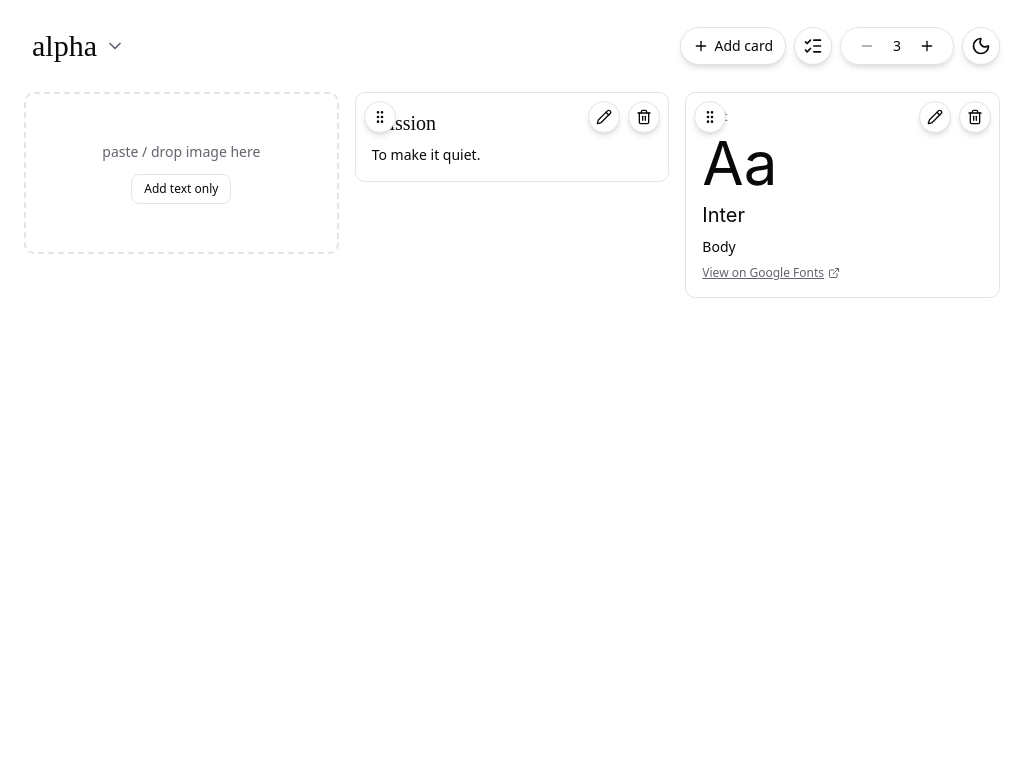
Test: editing a card › edits a text card and a font with their own fields
This screenshot has width=1024, height=768.
Expected: the button with aria-label "Brand" is shown, [24, 24, 133, 68]
Click the button named "Edit Mission": (604, 117) [588, 101, 620, 133]
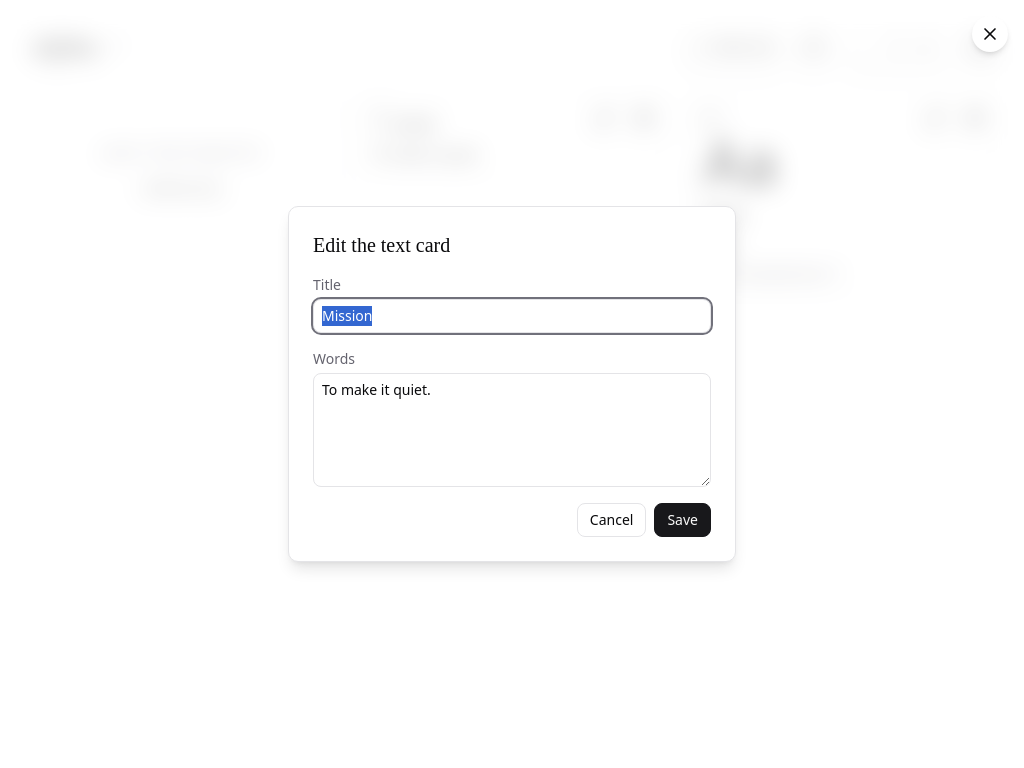
Expected: the text box labelled "Words" holds "To make it quiet."
Replace the text in the text box labelled "Words" with "Quiet.": (512, 430) [313, 373, 711, 487]
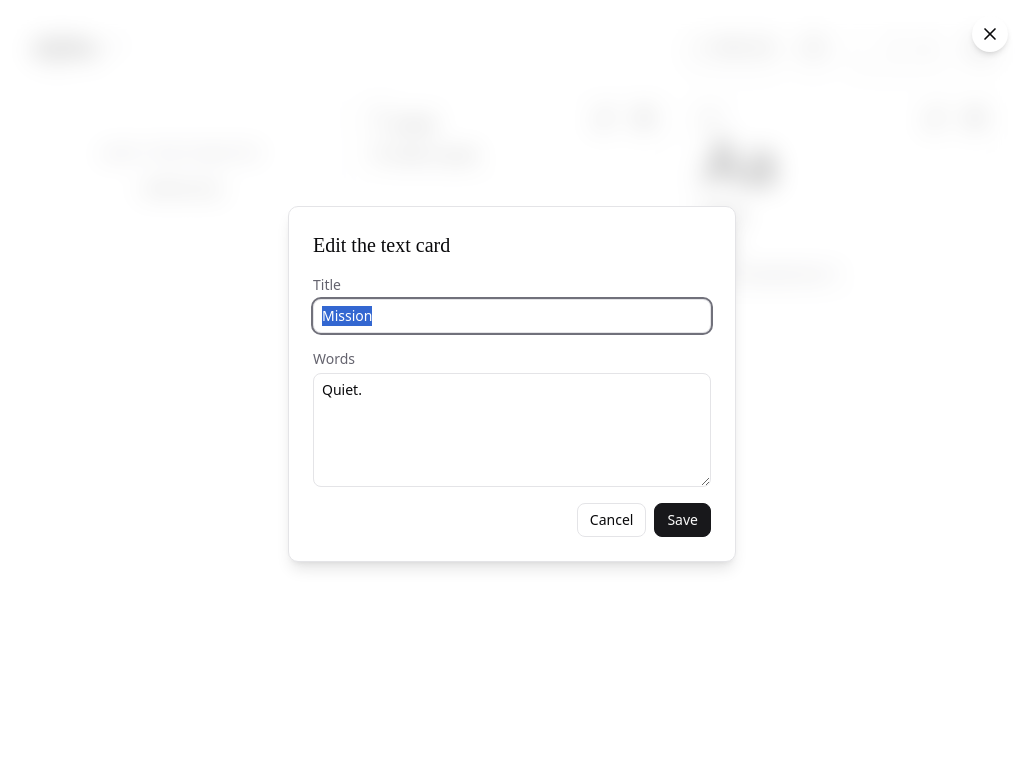
Click the button "Save": (683, 520) [654, 503, 711, 537]
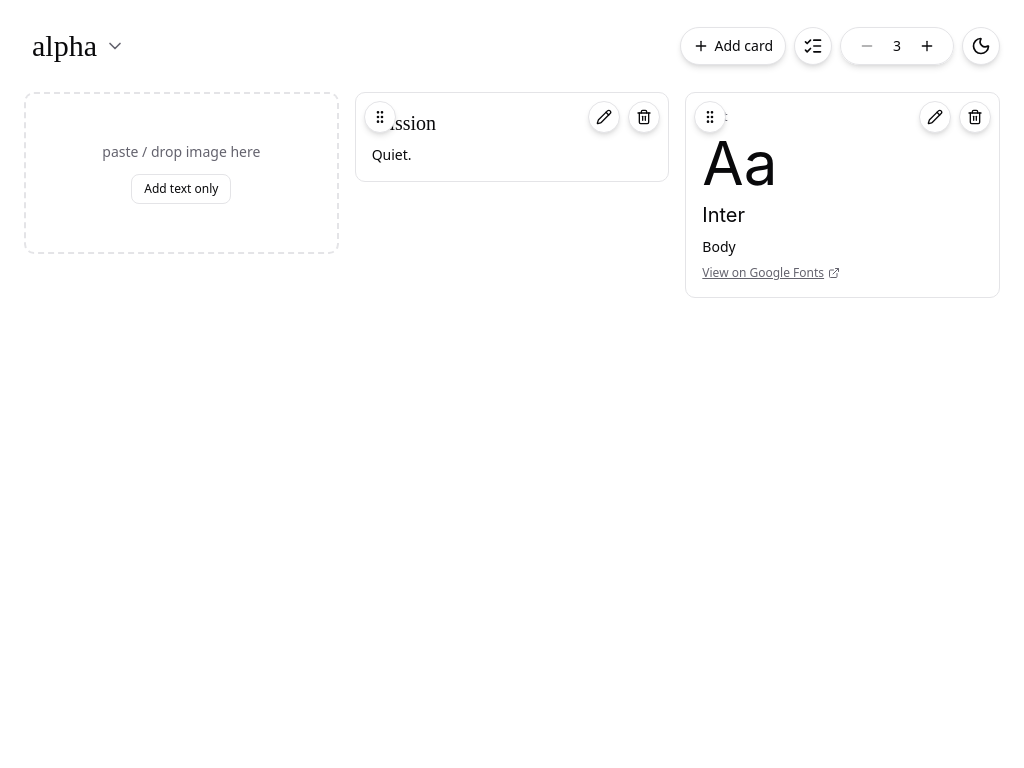
Expected: the text "Quiet." is shown, [372, 145, 412, 164]
Expected: the dialog is gone
Click the button named "Edit Inter": (935, 117) [919, 101, 951, 133]
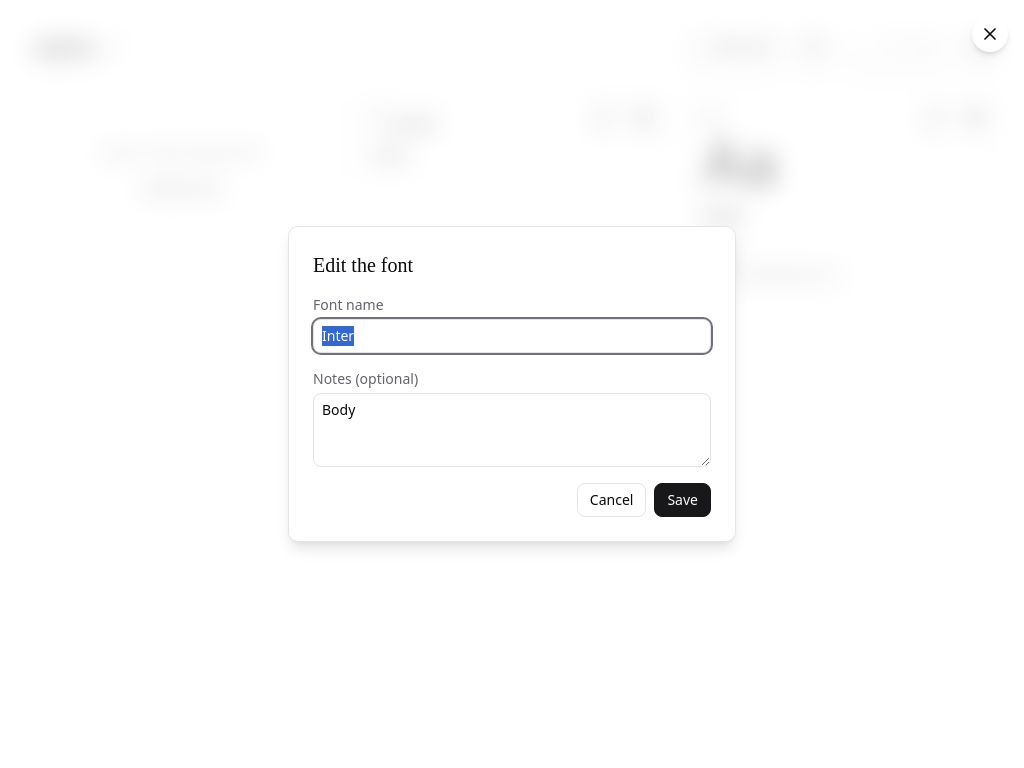
Expected: the field labelled "Font name" holds "Inter", [313, 319, 711, 353]
Replace the text in the text box labelled "Notes (optional)" with "Interface": (512, 430) [313, 393, 711, 467]
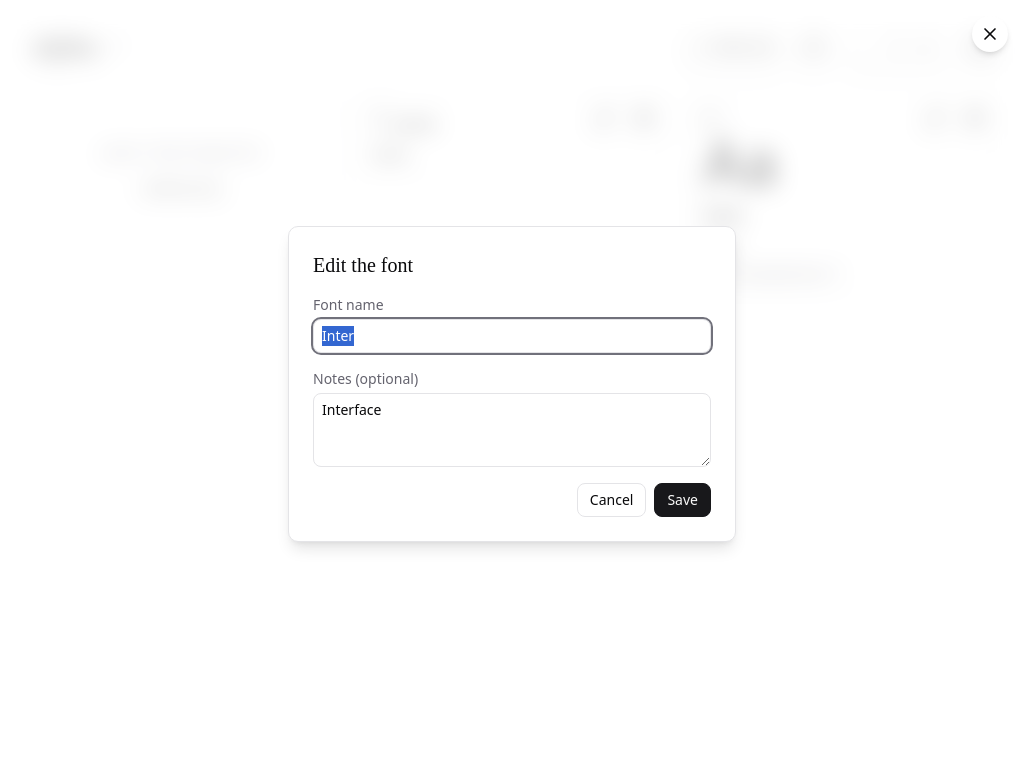
Click the button "Save": (683, 500) [654, 483, 711, 517]
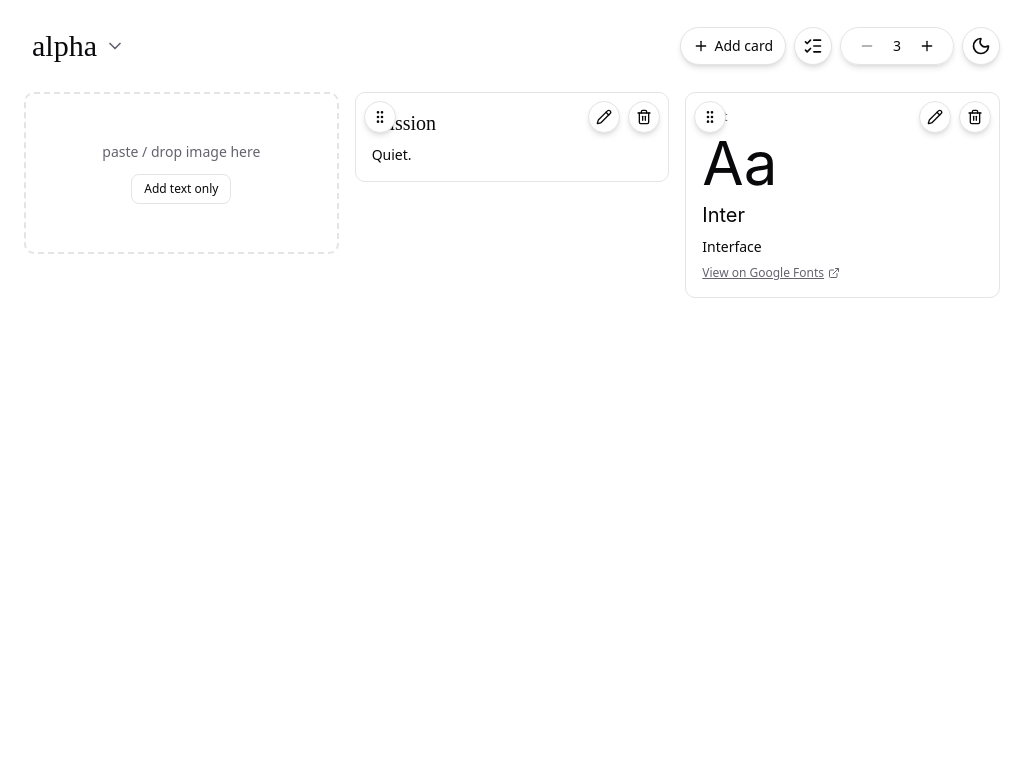
Expected: the text "Interface" is shown, [702, 237, 762, 256]
